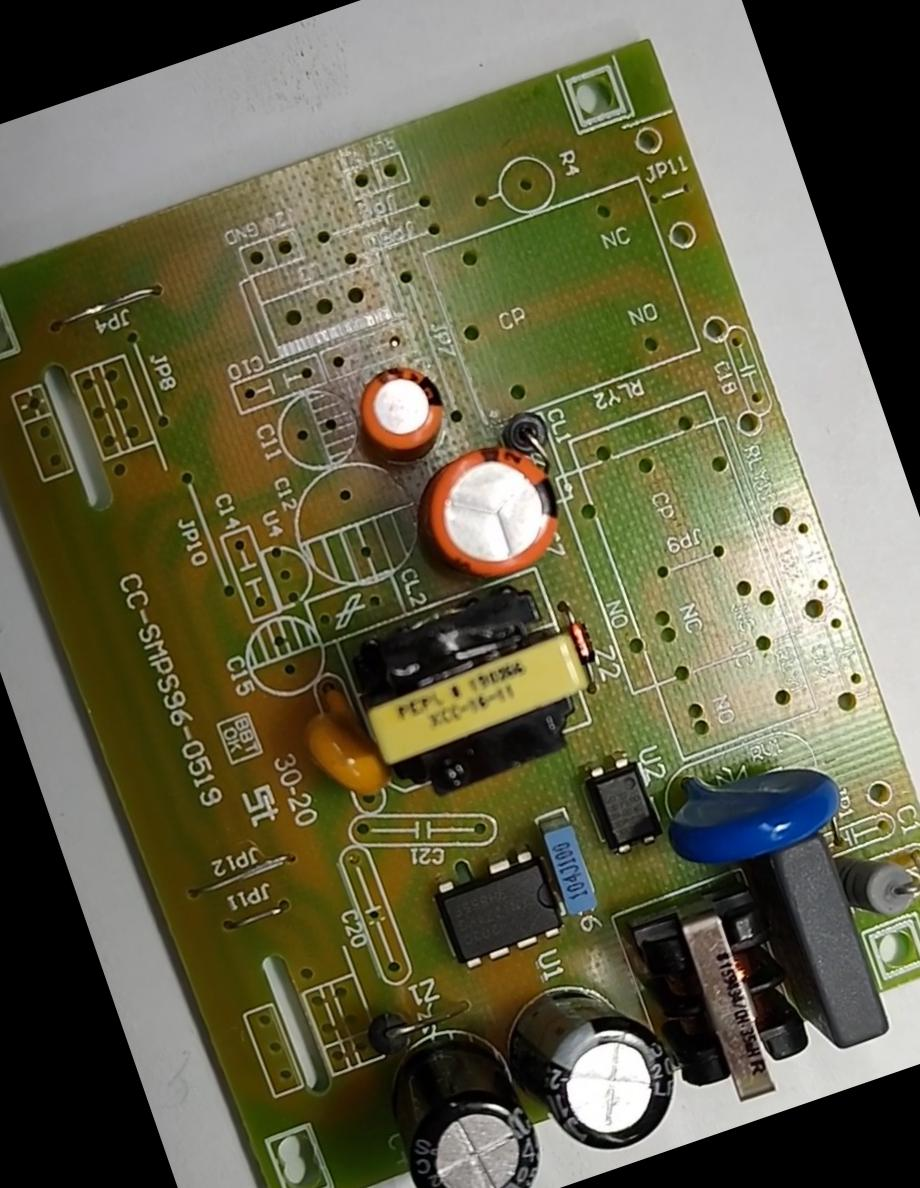Cap1: (407, 428, 585, 603)
Cap2: (354, 355, 462, 468)
Cap3: (495, 956, 700, 1176)
Cap4: (370, 1025, 559, 1187)
MOSFET: (424, 836, 578, 976)
Mov: (644, 728, 859, 888)
Resistor: (833, 832, 919, 936)
Transformer: (336, 568, 616, 818), (630, 870, 831, 1122)
